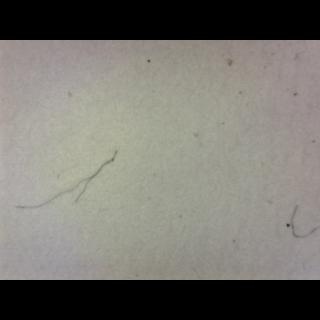Microplastic: (16, 154, 134, 220), (285, 197, 320, 244)
